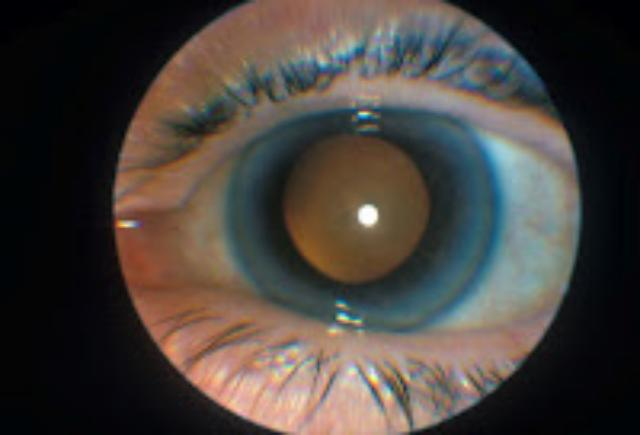eye: (252, 105, 483, 325)
